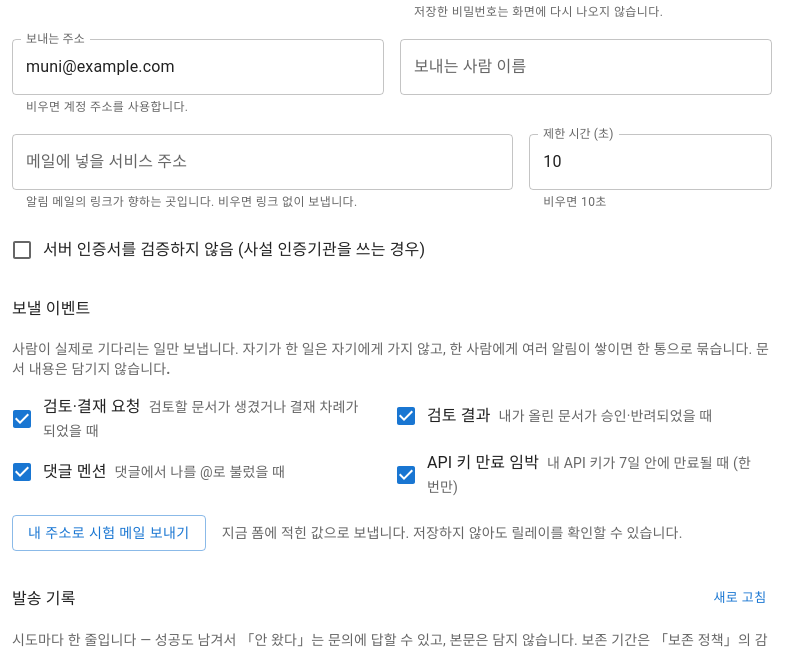
MailSettings › sends the form as it stands and reports where the test went
(page scrolled)
Click the button "내 주소로 시험 메일 보내기": (109, 533) [12,515,206,551]
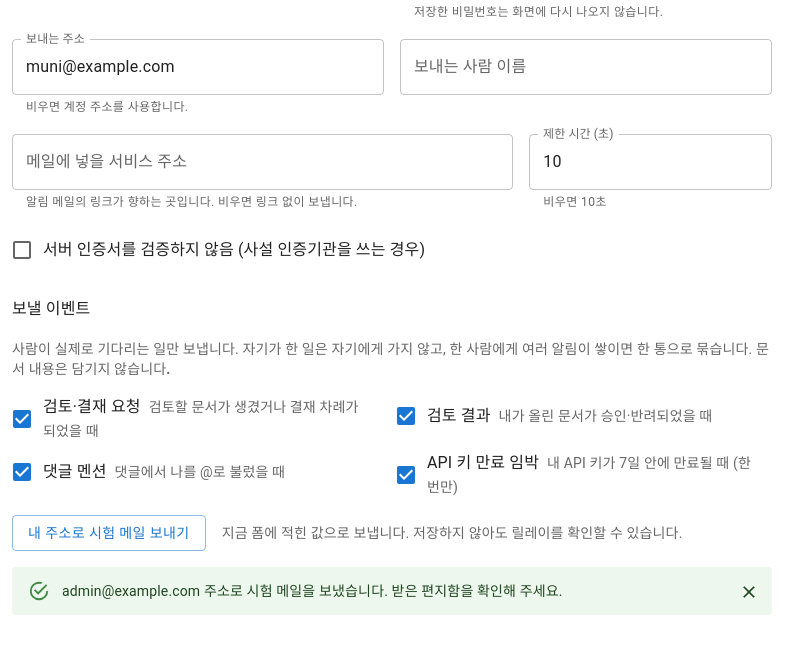
Expected: the text "admin@example.com 주소로 시험 메일을 보냈습니다. 받은 편지함을 확인해 주세요." is shown, [62,583,563,599]
